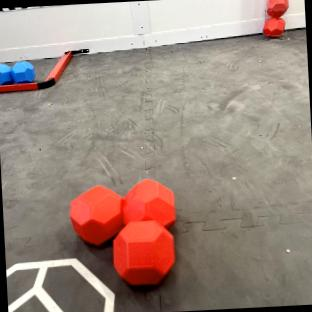V5_BLUE: (11, 61, 34, 83)
V5_RED: (68, 178, 177, 285), (114, 220, 174, 284), (263, 15, 284, 36), (267, 0, 287, 15)
